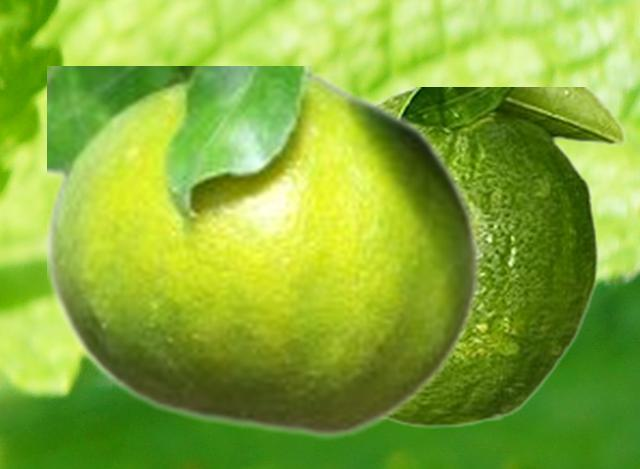dalandan: (47, 66, 482, 439), (373, 87, 626, 427)
